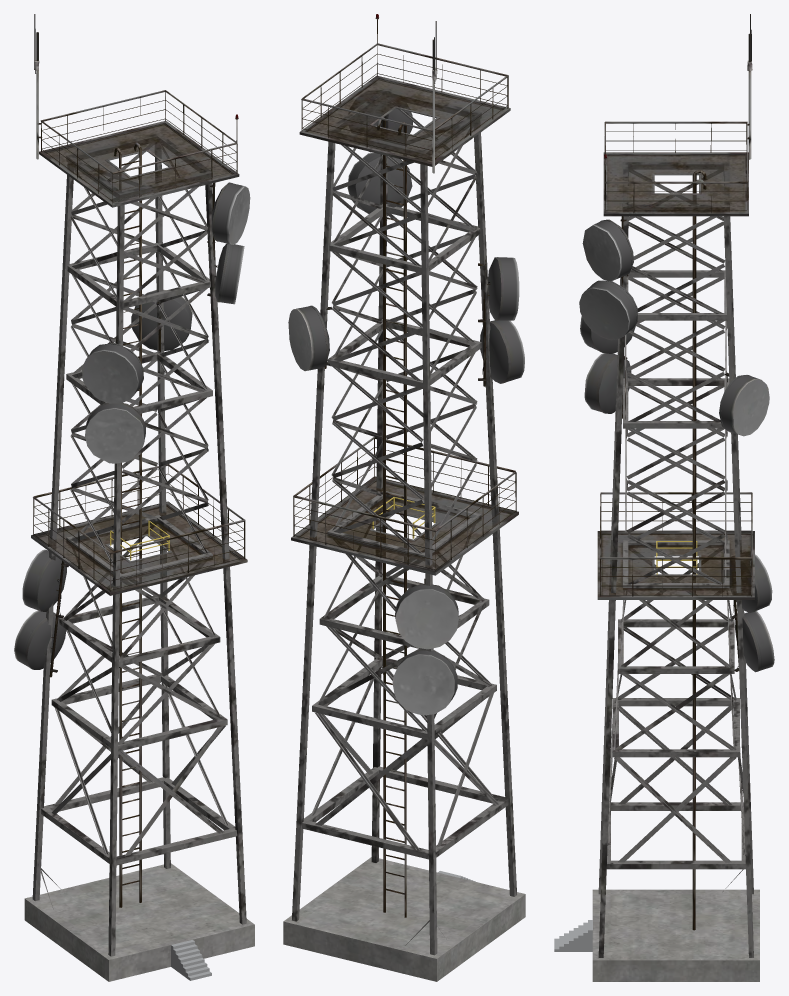
File: radio-mast.access-v17.lod0.glb
The picture shows the model from 3 angles, left to right: view 1: azimuth 30°, elevation 25°; view 2: azimuth 150°, elevation 25°; view 3: azimuth 270°, elevation 25°; orthographic projection. The views are drawn at different scales.
Parts seen in each view (by area): view 1: defaultMaterial (×2), Walkable floors and stairs; view 2: defaultMaterial (×2); view 3: defaultMaterial (×2), Walkable floors and stairs.
Part boxes in pixels (<box>): defaultMaterial (×2): <box>14,14,254,981</box>; Walkable floors and stairs: <box>171,940,211,980</box>; defaultMaterial (×2): <box>283,14,525,981</box>; defaultMaterial (×2): <box>579,14,774,981</box>; Walkable floors and stairs: <box>554,920,592,951</box>.
Size of the model in its own units: 11.64 by 60 by 13.3.
Materials: 4 (2 with a texture image).
